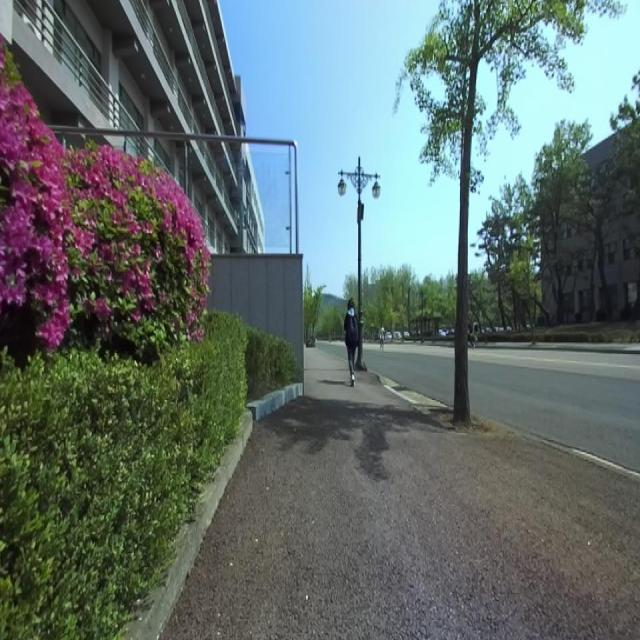sidewalk: (163, 348, 640, 639)
